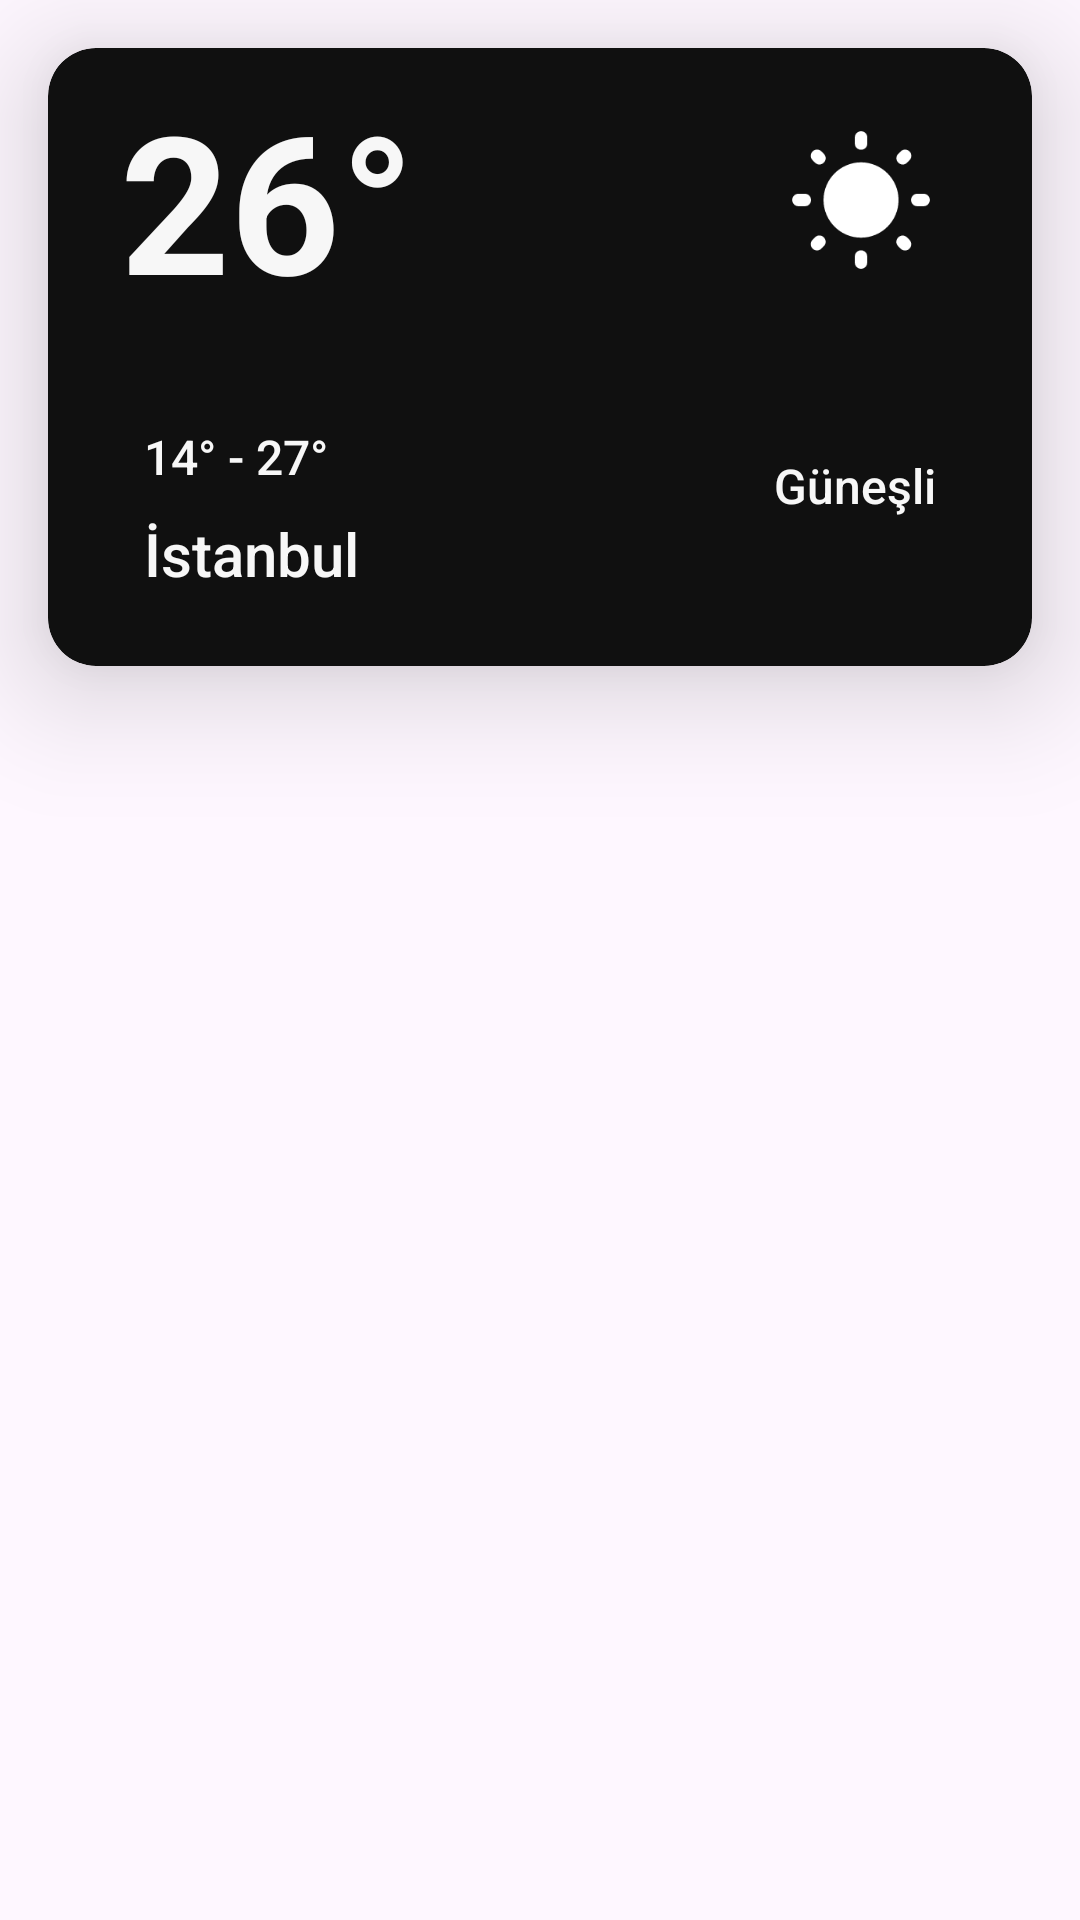

Icon bounding boxes for this 1080w x 1920h phone screenshot, format (x1, y1, x2, y2):
weather situation image: (792, 131, 930, 269)
